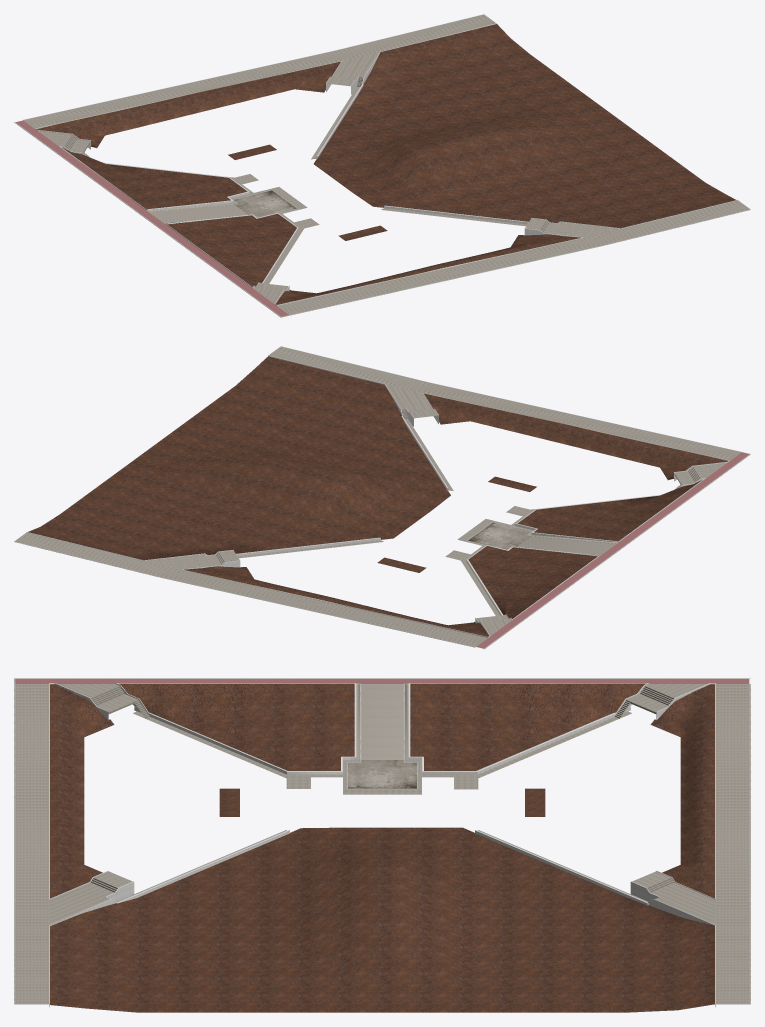
The model's file is Ground.dae.
3 renders of one model, top to bottom at view 1: azimuth 30°, elevation 25°; view 2: azimuth 150°, elevation 25°; view 3: azimuth 270°, elevation 25°, orthographic. The views are drawn at different scales.
Parts seen in each view (by area): view 1: Ground-Pivot; view 2: Ground-Pivot; view 3: Ground-Pivot.
Boxes of the visible parts, x1,y1,x2,y2 form: Ground-Pivot: (14, 14, 750, 317); Ground-Pivot: (14, 346, 750, 649); Ground-Pivot: (14, 678, 750, 1012).
Bounding box in the file's own units: 11125 × 10946 × 453.
8 materials, 8 textured.
